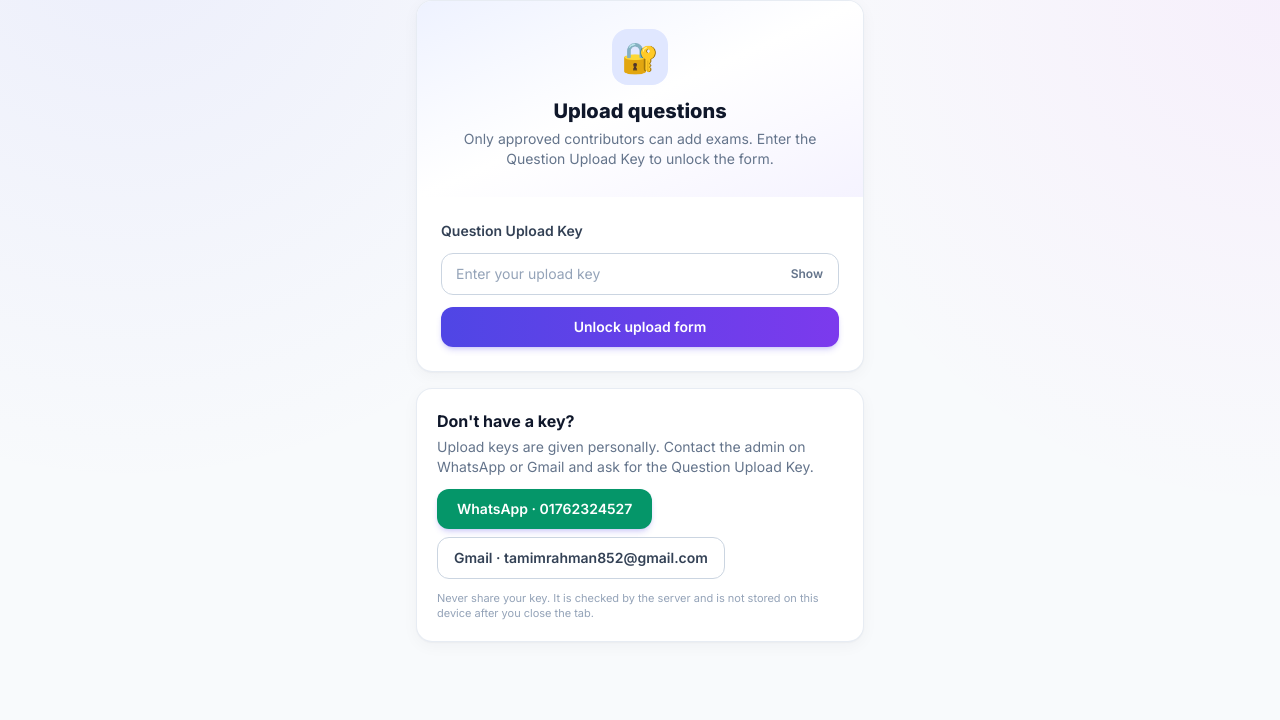
Test case: a wrong key keeps the form locked and stores nothing
Type "wrong-key" into the password field labelled "Question Upload Key" at (640, 274), box [441,253,839,295]
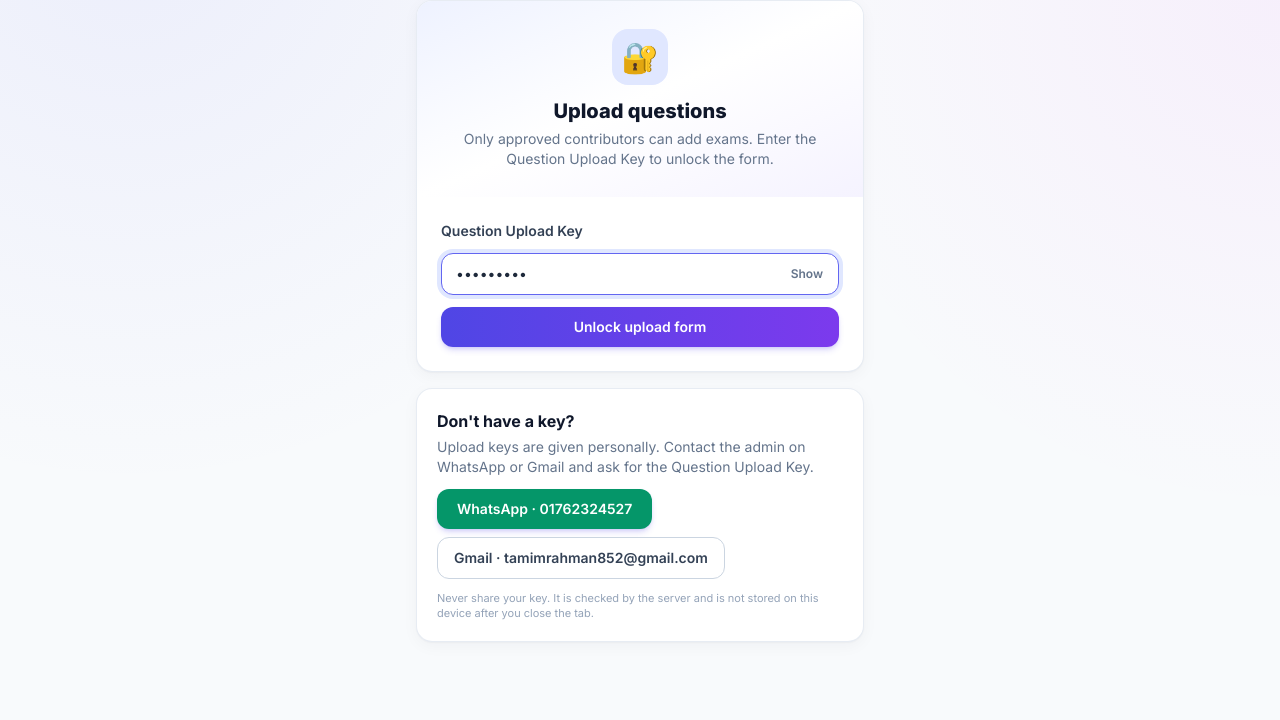
Click the button "Unlock upload form" at (640, 327), box [441,307,839,347]
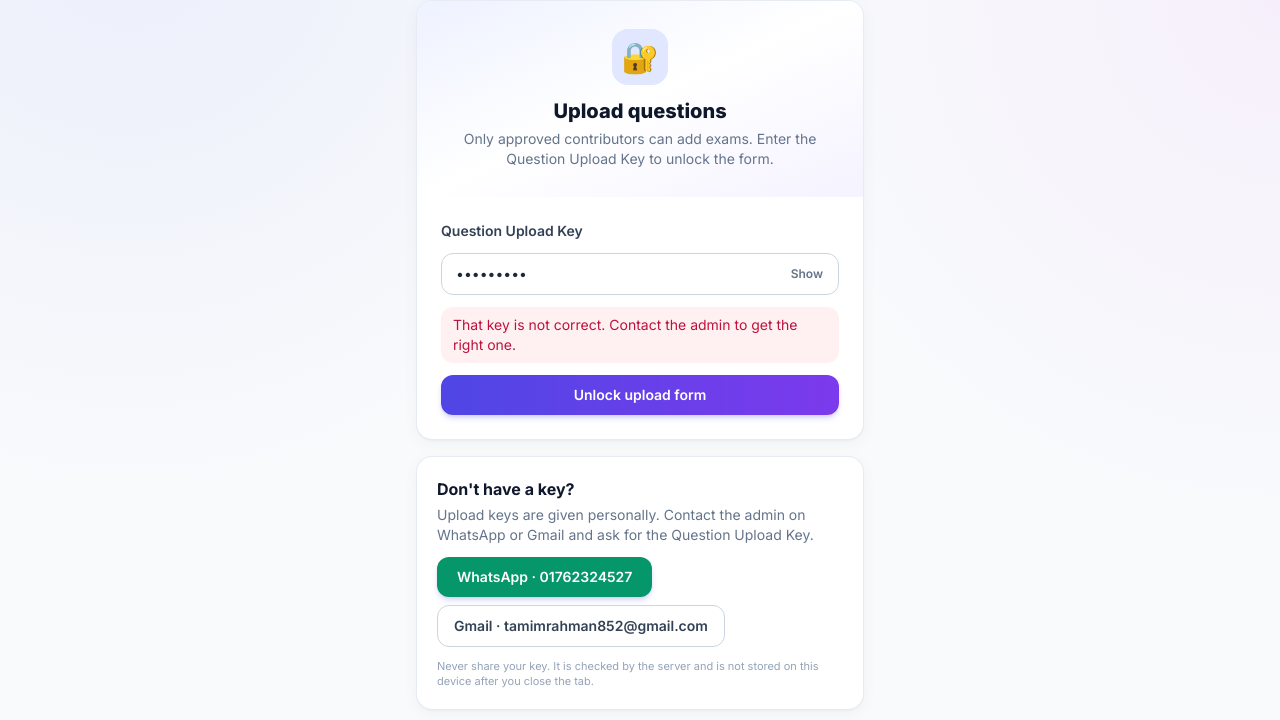
Expected: the message shows "not correct", [453,316,798,353]
